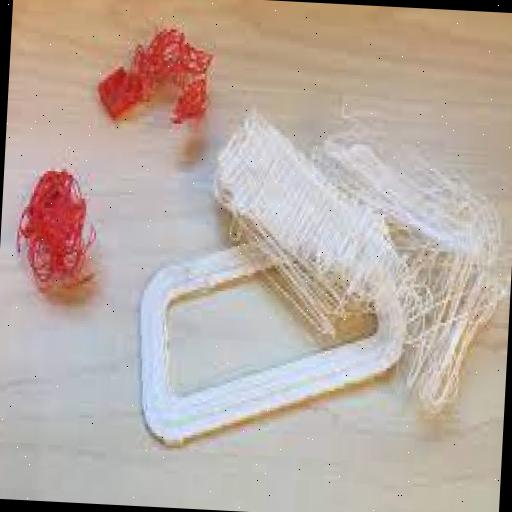spaghetti: (215, 116, 499, 380), (113, 21, 213, 145), (22, 155, 90, 312)
